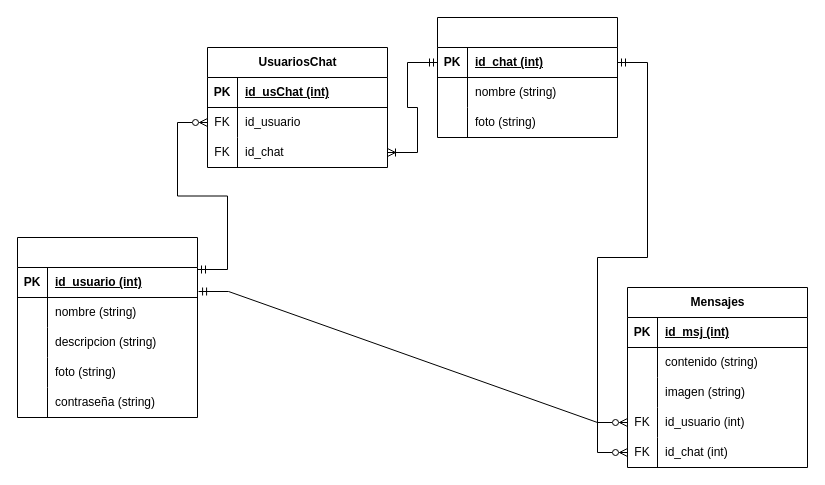
This 825x485 diagram has some shape labels left out. The shapes that lost their labels are listed below. From the top down, each one's box as (x1, y1, x2, y2) in pixels, then its label:
(436, 16, 618, 138): Chats
(16, 236, 198, 418): Usuarios
